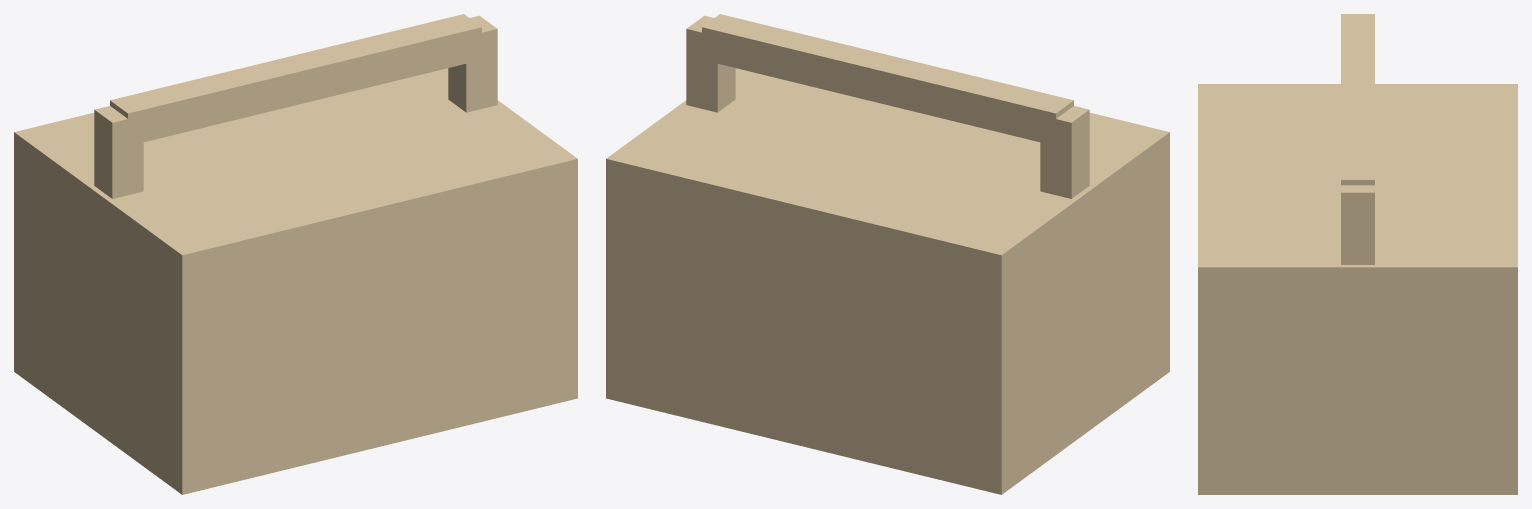
File: tool_harvest_basket.glb
The picture shows the model from 3 angles, left to right: view 1: azimuth 30°, elevation 25°; view 2: azimuth 150°, elevation 25°; view 3: azimuth 270°, elevation 25°; orthographic projection. The views are drawn at different scales.
Visible parts, largest first — view 1: ToolHarvestBasket; view 2: ToolHarvestBasket; view 3: ToolHarvestBasket.
Boxes of the visible parts, x1,y1,x2,y2 form: ToolHarvestBasket: (14, 14, 577, 494); ToolHarvestBasket: (606, 14, 1169, 494); ToolHarvestBasket: (1198, 14, 1517, 494).
Size of the model in its own units: 0.38 by 0.295 by 0.28.
